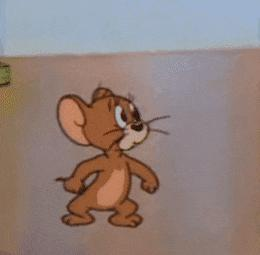jerry: (55, 86, 174, 228)
